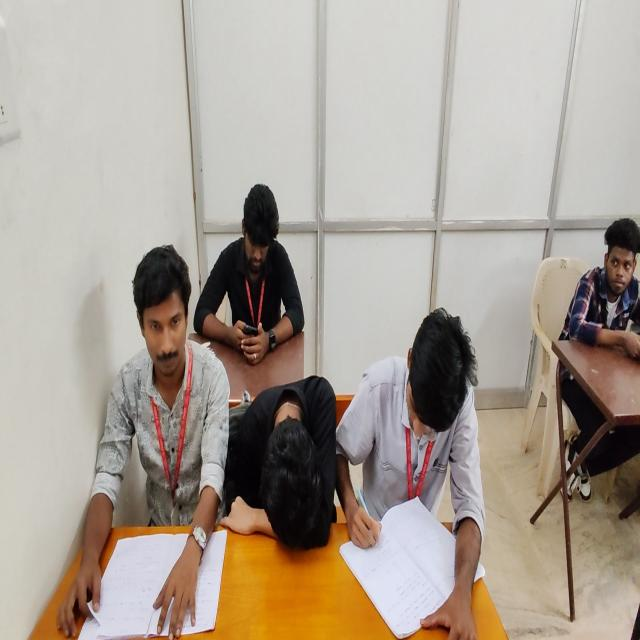listening: (56, 246, 231, 640), (555, 214, 640, 502)
sleeping: (217, 370, 336, 568)
using_mobile: (192, 181, 304, 364)
writing: (345, 308, 481, 640)
